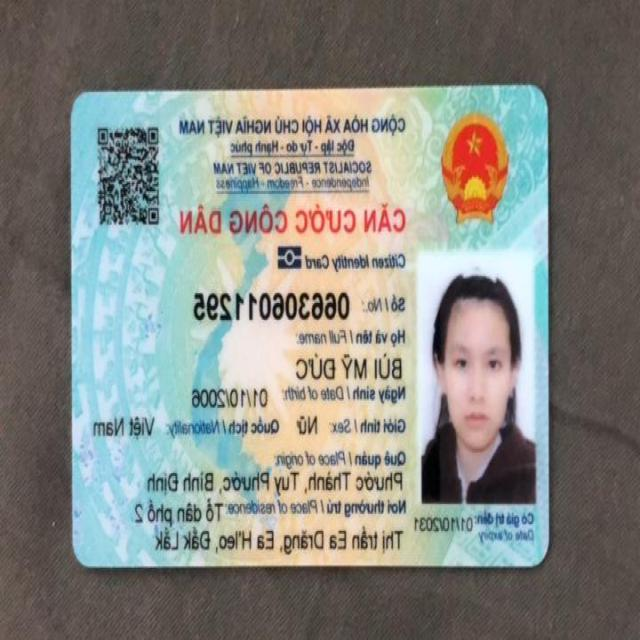bottom_left: (514, 530, 563, 580)
bottom_right: (62, 536, 102, 580)
image_person: (414, 252, 536, 501)
top_left: (518, 74, 562, 120)
top_right: (62, 80, 101, 122)
